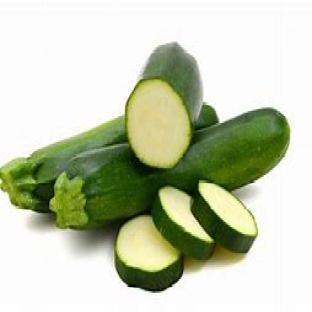Zucchini: (51, 110, 289, 228), (0, 117, 126, 211), (126, 44, 202, 168), (115, 215, 183, 291), (192, 181, 257, 253), (152, 186, 214, 259)
